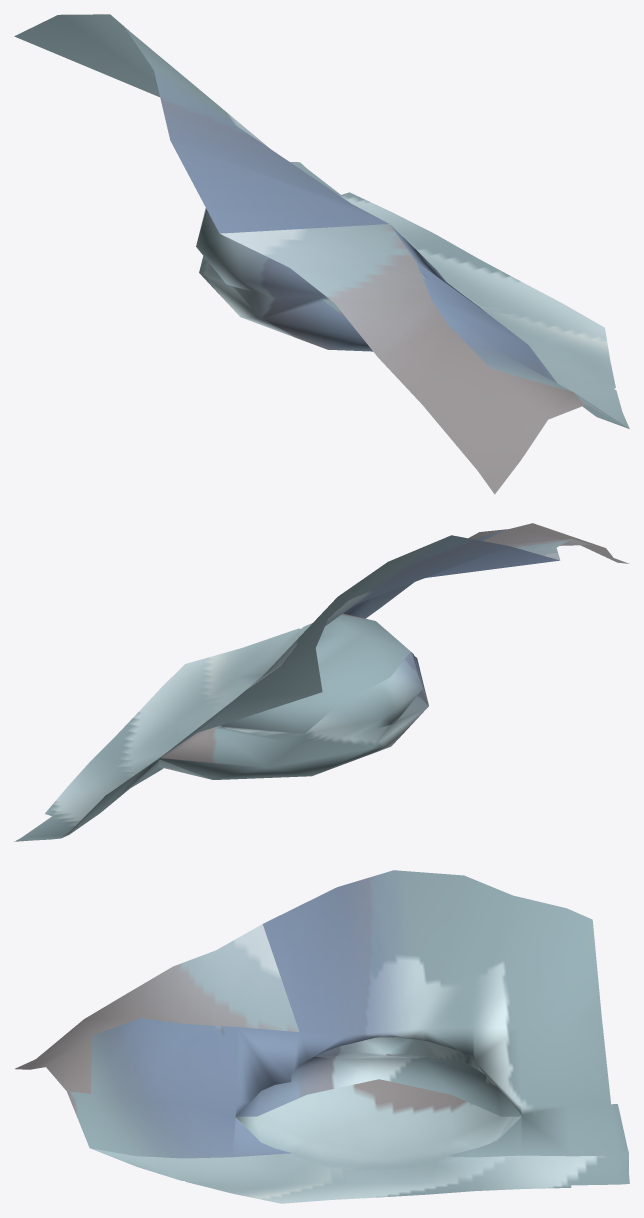
File: cave.fbx
3 renders of one model, top to bottom at view 1: azimuth 30°, elevation 25°; view 2: azimuth 150°, elevation 25°; view 3: azimuth 270°, elevation 25°, orthographic. The views are drawn at different scales.
Visible parts, largest first — view 1: Plane.001; view 2: Plane.001; view 3: Plane.001.
Part boxes in pixels (<box>): Plane.001: <box>14,14,629,494</box>; Plane.001: <box>14,523,629,841</box>; Plane.001: <box>15,870,629,1203</box>.
Size of the model in its own units: 1685 by 1193 by 3188.
